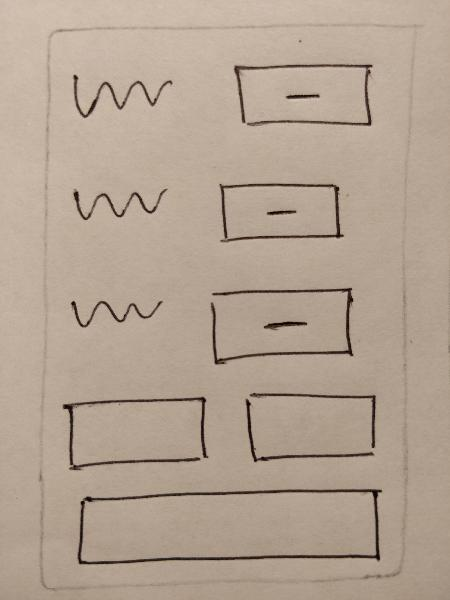button: (218, 50, 391, 141), (203, 281, 366, 367), (213, 174, 356, 249)
text: (62, 168, 176, 233), (67, 66, 182, 121), (64, 288, 172, 339)
text_input: (67, 483, 390, 570), (57, 393, 222, 479), (238, 384, 387, 472)
